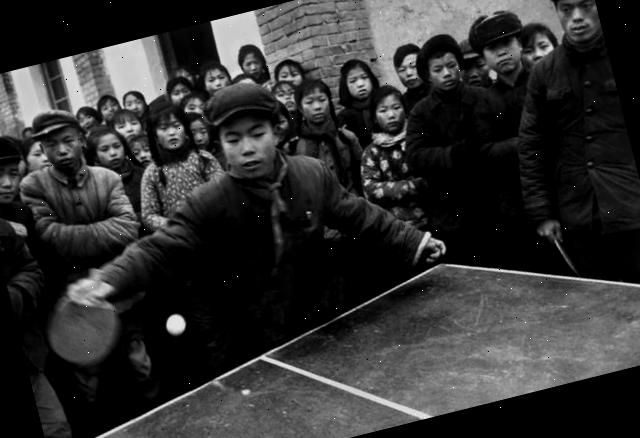ball: (159, 308, 190, 341)
